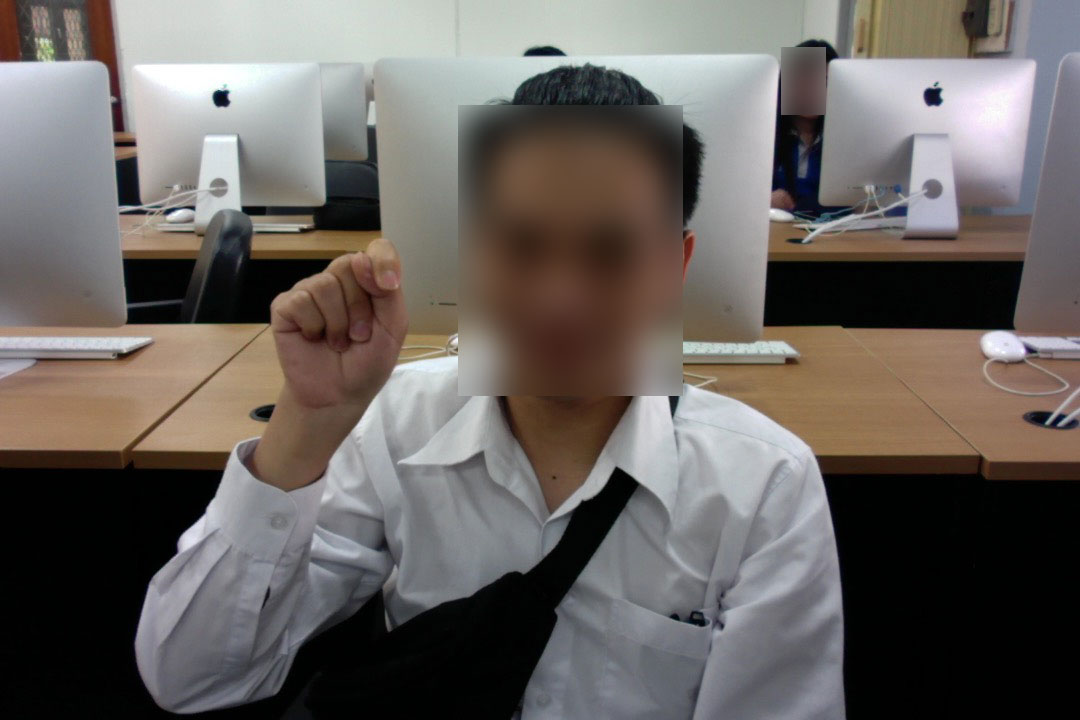tor: (265, 234, 408, 430)
